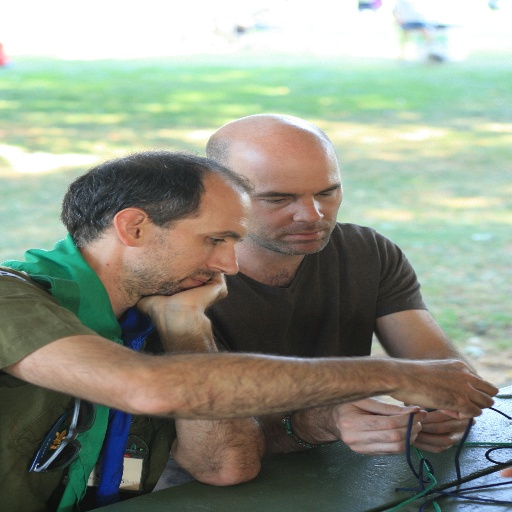hand: (120, 281, 228, 350), (399, 358, 501, 422), (336, 394, 427, 456), (413, 407, 472, 456)
